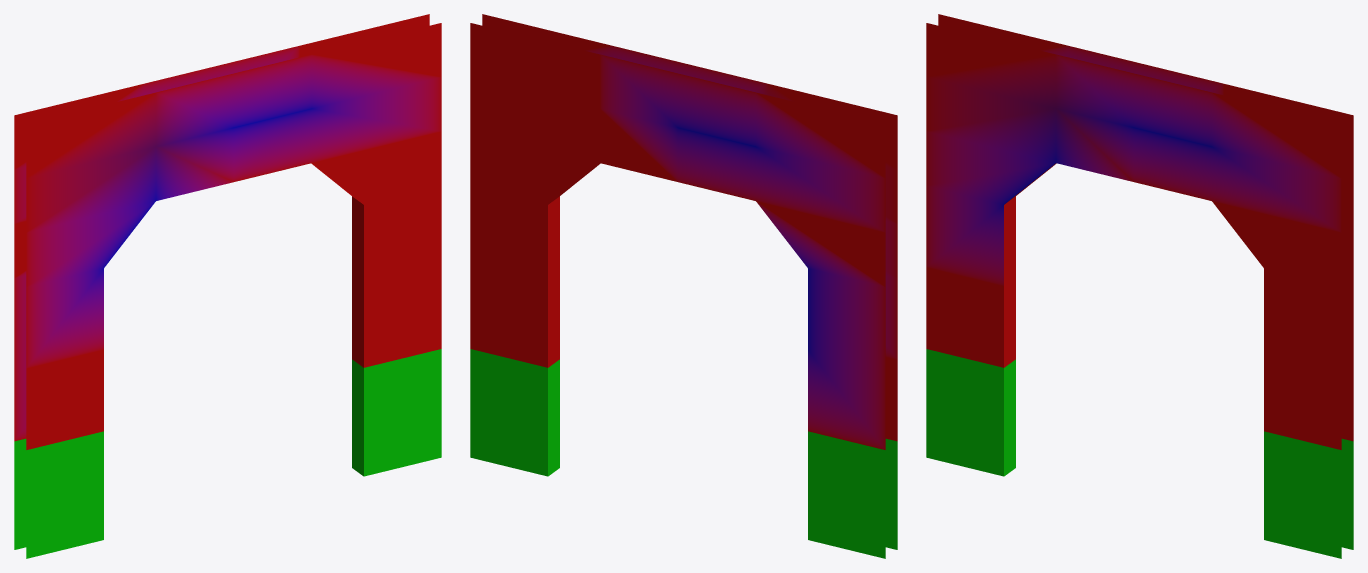
File: PortalA_8x8.fbx
The picture shows the model from 3 angles, left to right: view 1: azimuth 30°, elevation 25°; view 2: azimuth 150°, elevation 25°; view 3: azimuth 330°, elevation 25°; orthographic projection.
Visible parts, largest first — view 1: Plane, Plane.001; view 2: Plane.001, Plane; view 3: Plane, Plane.001.
Part boxes in pixels (left/top/right/bottom): Plane: left=26, top=23, right=441, bottom=558; Plane.001: left=14, top=14, right=429, bottom=549; Plane.001: left=470, top=23, right=885, bottom=558; Plane: left=482, top=14, right=897, bottom=549; Plane: left=926, top=23, right=1341, bottom=558; Plane.001: left=938, top=14, right=1353, bottom=549.
Bounding box in the file's own units: 800 × 800 × 40.
